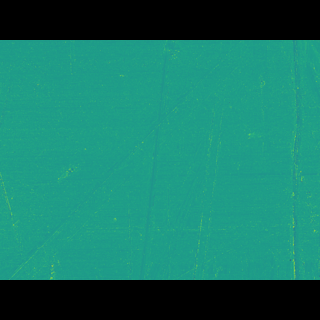Loch: (1, 88, 225, 250), (128, 69, 182, 250), (190, 112, 229, 251), (282, 69, 310, 249)
